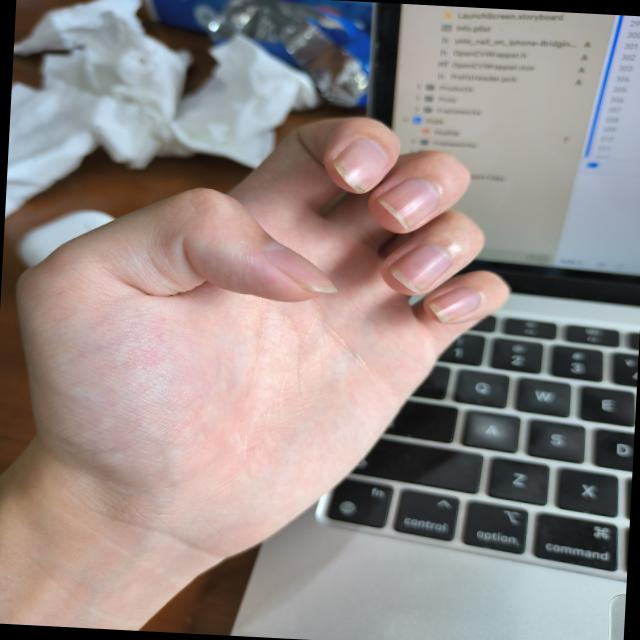Nail: (264, 241, 339, 293), (378, 179, 438, 231), (333, 138, 388, 193), (390, 244, 451, 292), (429, 288, 480, 324)
